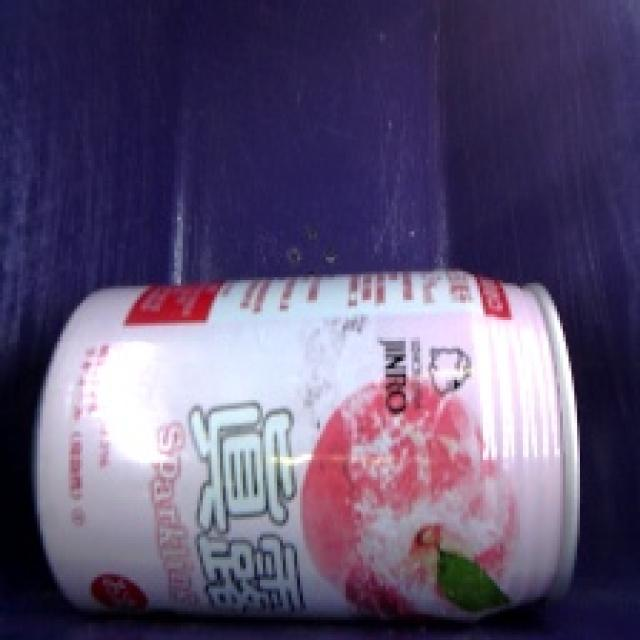metal: (22, 260, 596, 640)
